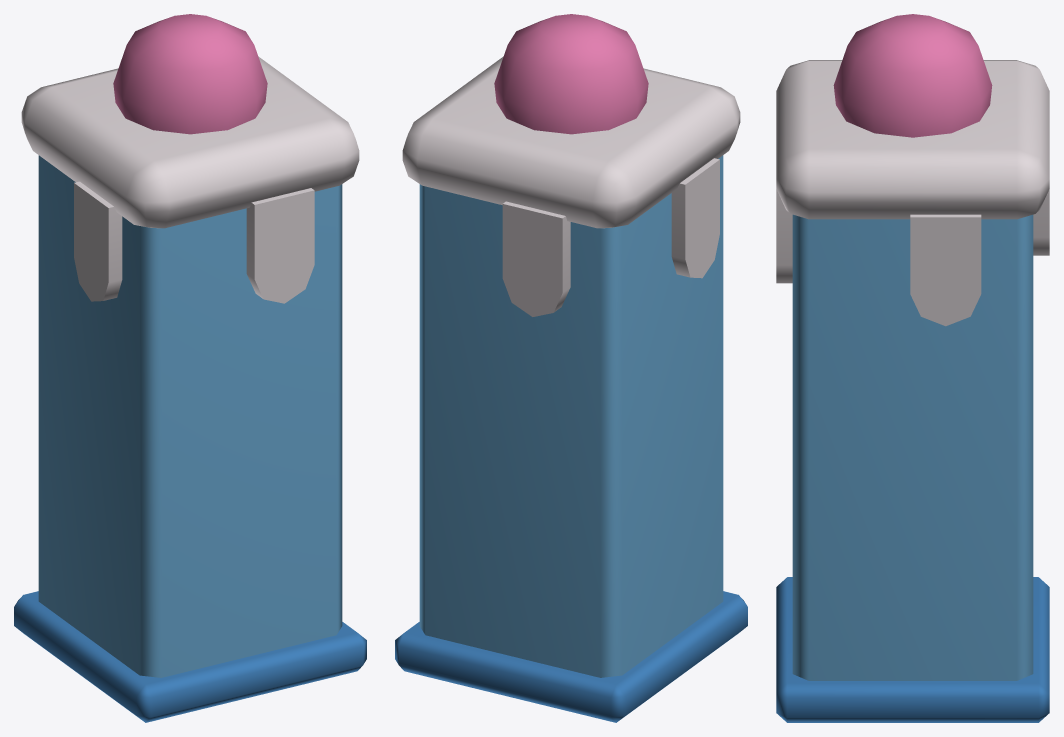
The model's file is candy-post.glb.
3 renders of one model, left to right at view 1: azimuth 30°, elevation 25°; view 2: azimuth 150°, elevation 25°; view 3: azimuth 270°, elevation 25°, orthographic. The views are drawn at different scales.
Parts seen in each view (by area): view 1: candy-post; view 2: candy-post; view 3: candy-post.
Part boxes in pixels (left/top/right/bottom): candy-post: left=14, top=14, right=366, bottom=722; candy-post: left=395, top=14, right=747, bottom=722; candy-post: left=776, top=14, right=1049, bottom=722.
Size of the model in its own units: 0.5 by 1.3 by 0.5.
